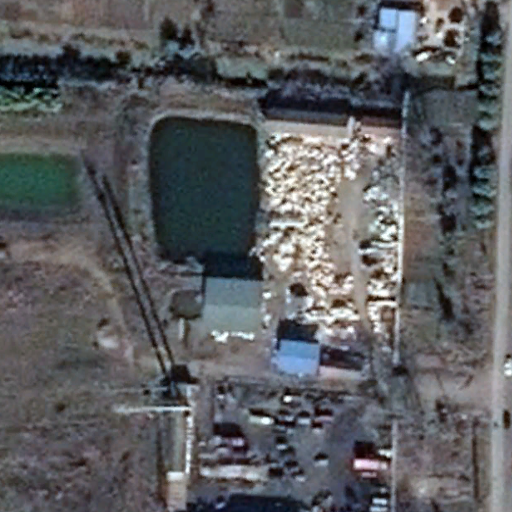msw: (263, 134, 403, 330)
